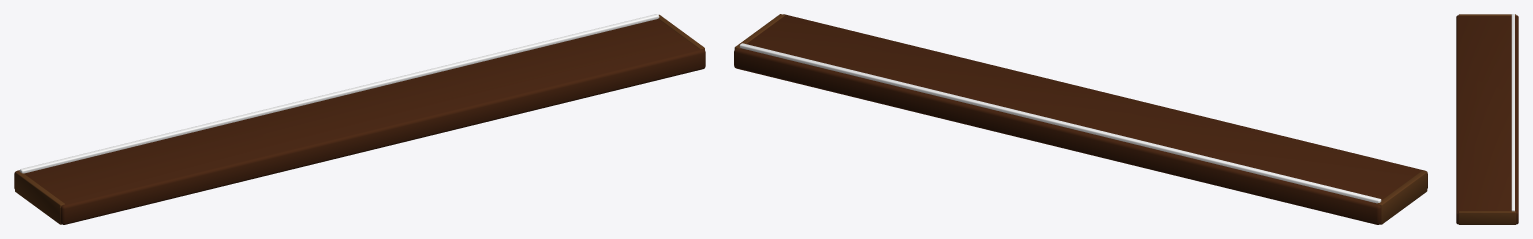
File: long-wooden-plank.obj
The picture shows the model from 3 angles, left to right: view 1: azimuth 30°, elevation 25°; view 2: azimuth 150°, elevation 25°; view 3: azimuth 270°, elevation 25°; orthographic projection. The views are drawn at different scales.
Parts seen in each view (by area): view 1: long-wooden-plank; view 2: long-wooden-plank; view 3: long-wooden-plank.
Boxes of the visible parts, x1,y1,x2,y2 form: long-wooden-plank: (14,14,705,224); long-wooden-plank: (734,14,1427,224); long-wooden-plank: (1456,14,1518,224).
Bounding box in the file's own units: 2.4 × 0.081 × 0.32.
